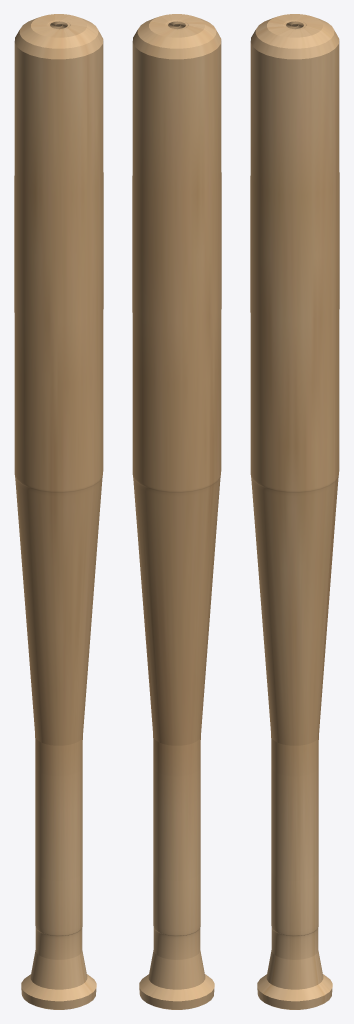
The model's file is baseball bat.fbx.
3 renders of one model, left to right at view 1: azimuth 90°, elevation 25°; view 2: azimuth 150°, elevation 25°; view 3: azimuth 330°, elevation 25°, orthographic.
Parts seen in each view (by area): view 1: Lathe; view 2: Lathe; view 3: Lathe.
Boxes of the visible parts, x1,y1,x2,y2 form: Lathe: (14,14,103,1009); Lathe: (132,14,221,1009); Lathe: (250,14,339,1009).
Size of the model in its own units: 64.47 by 774 by 64.47.
1 material, 1 textured.
